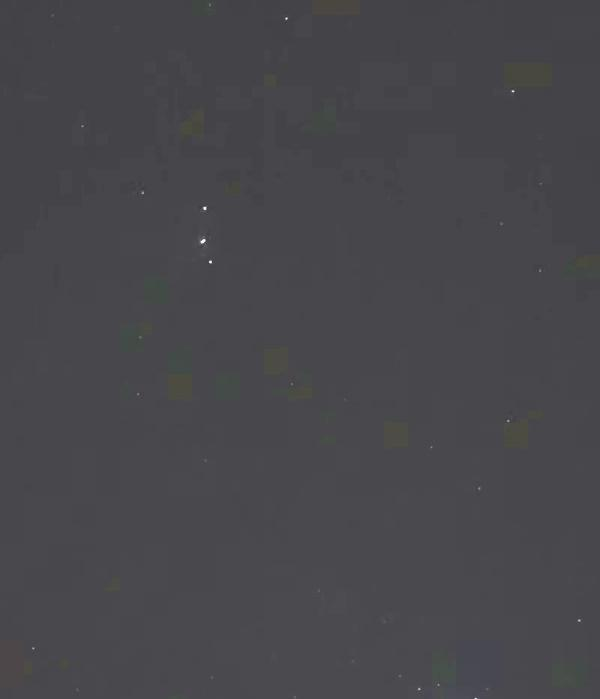Plane: (195, 194, 225, 278)
